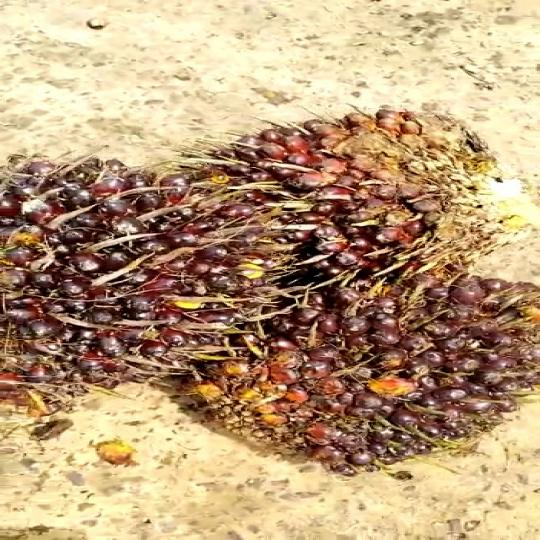kurang masak: (187, 280, 538, 488), (0, 144, 285, 400), (188, 96, 495, 282)
